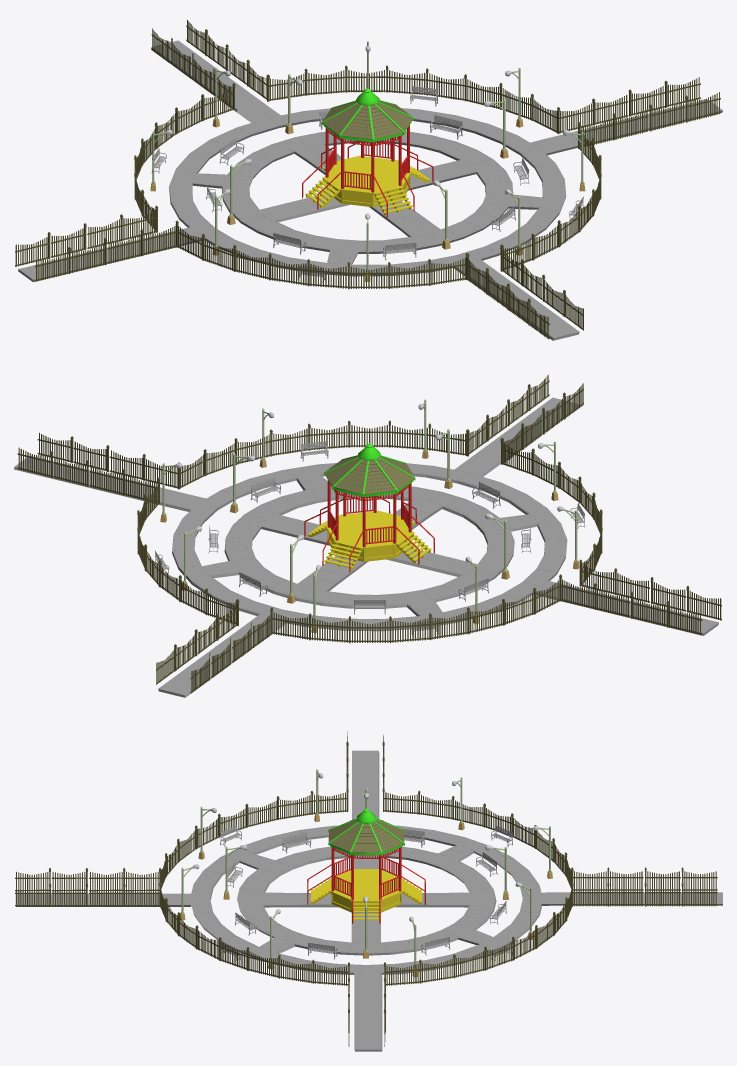
Rendered from ART-MOD-A-GAZEBO-FOUR-SIDES.fbx.
The picture shows the model from 3 angles, top to bottom: view 1: azimuth 30°, elevation 25°; view 2: azimuth 150°, elevation 25°; view 3: azimuth 270°, elevation 25°; orthographic projection. The views are drawn at different scales.
Parts seen in each view (by area): view 1: SideWalk, Fence_Single_GEO.035, Cylinder003; view 2: SideWalk, Fence_Single_GEO.035, Cylinder003; view 3: SideWalk, Fence_Single_GEO.035, Cylinder003.
Part boxes in pixels (left/top/right/bottom): SideWalk: left=18, top=40, right=722, bottom=340; Fence_Single_GEO.035: left=15, top=20, right=720, bottom=339; Cylinder003: left=302, top=88, right=433, bottom=217; SideWalk: left=14, top=397, right=718, bottom=697; Fence_Single_GEO.035: left=17, top=374, right=721, bottom=693; Cylinder003: left=304, top=443, right=434, bottom=572; SideWalk: left=15, top=750, right=722, bottom=1051; Fence_Single_GEO.035: left=15, top=731, right=717, bottom=1046; Cylinder003: left=307, top=808, right=425, bottom=923.
Size of the model in its own units: 5860 by 846 by 5860.
